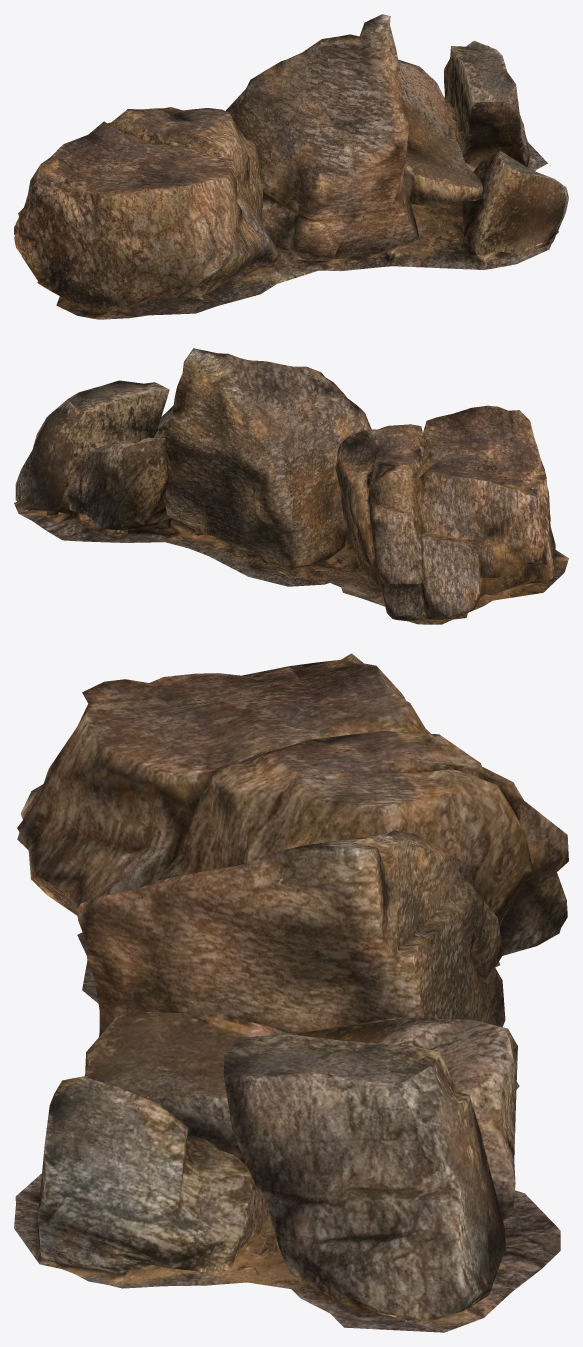
File: boulder_a.glb
The picture shows the model from 3 angles, top to bottom: view 1: azimuth 30°, elevation 25°; view 2: azimuth 150°, elevation 25°; view 3: azimuth 270°, elevation 25°; orthographic projection. The views are drawn at different scales.
Visible parts, largest first — view 1: boulder_02; view 2: boulder_02; view 3: boulder_02.
Boxes of the visible parts, x1,y1,x2,y2 form: boulder_02: (14, 14, 568, 319); boulder_02: (14, 348, 568, 624); boulder_02: (14, 653, 568, 1332).
Bounding box in the file's own units: 2.51 × 0.8789 × 1.23.
Materials: 1 (1 with a texture image).
